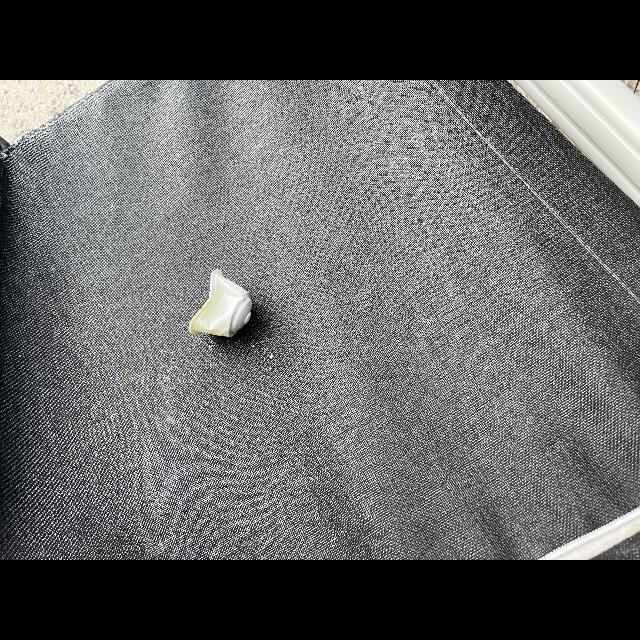damaged_capsule: (178, 261, 262, 355)
